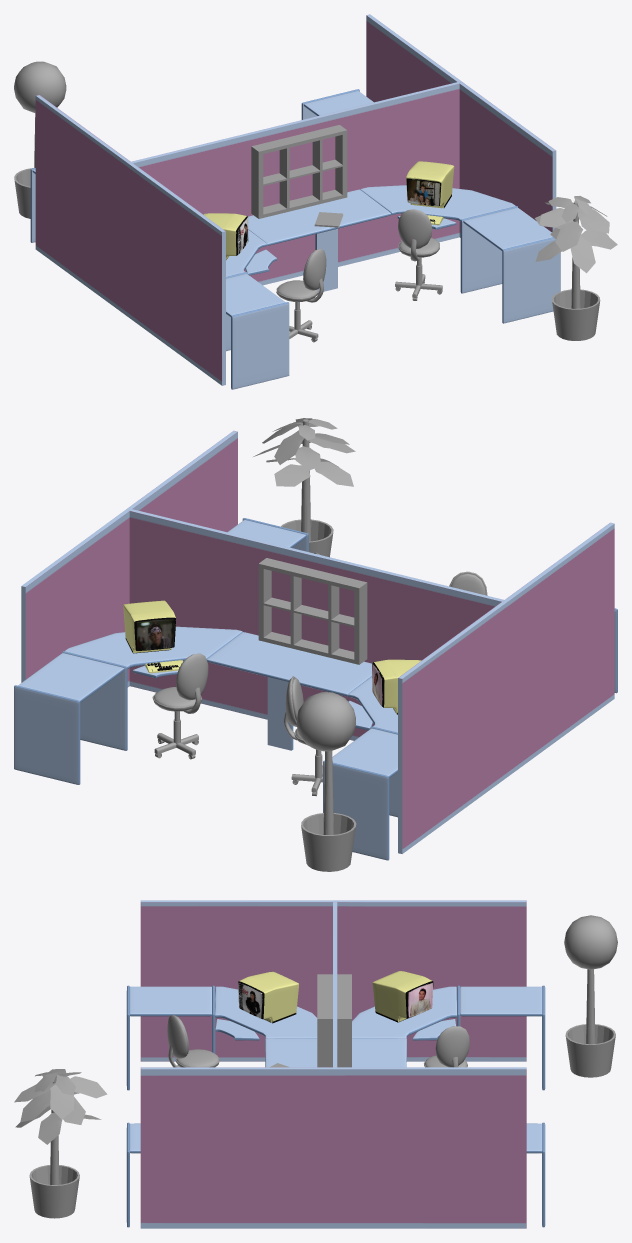
The model's file is officePre.fbx.
3 views of the same model, one above another, from view 1: azimuth 30°, elevation 25°; view 2: azimuth 150°, elevation 25°; view 3: azimuth 270°, elevation 25° (orthographic). The views are drawn at different scales.
Parts seen in each view (by area): view 1: pCube17, polySurface6, polySurface11, pCube39, polySurface28, pCube48, pCube49, pCube1, polySurface10, pCube34; view 2: pCube17, polySurface10, pCube52, polySurface28, polySurface11, pCube50, pCube35, polySurface6, pCube36, pCube51, pCube49; view 3: pCube17, polySurface10, polySurface6, polySurface11, polySurface28, pCube34, pCube36, pCube39, pCube49, pCube52, pCube51.
Boxes of the visible parts, bbox=[...] form: pCube17: bbox=[35, 14, 556, 385]; polySurface6: bbox=[226, 185, 560, 389]; polySurface11: bbox=[535, 196, 617, 340]; pCube39: bbox=[251, 125, 347, 218]; polySurface28: bbox=[14, 61, 66, 218]; pCube48: bbox=[395, 209, 442, 300]; pCube49: bbox=[276, 248, 326, 342]; pCube1: bbox=[406, 161, 454, 208]; polySurface10: bbox=[30, 89, 373, 242]; pCube34: bbox=[203, 213, 248, 259]; pCube17: bbox=[21, 430, 614, 853]; polySurface10: bbox=[14, 626, 397, 860]; pCube52: bbox=[258, 558, 367, 664]; polySurface28: bbox=[296, 692, 356, 871]; polySurface11: bbox=[253, 418, 355, 557]; pCube50: bbox=[152, 653, 208, 759]; pCube35: bbox=[123, 600, 175, 653]; polySurface6: bbox=[227, 518, 617, 693]; pCube36: bbox=[372, 659, 421, 714]; pCube51: bbox=[284, 676, 322, 796]; pCube49: bbox=[449, 571, 487, 595]; pCube17: bbox=[140, 900, 526, 1228]; polySurface10: bbox=[352, 985, 545, 1227]; polySurface6: bbox=[126, 985, 317, 1227]; polySurface11: bbox=[14, 1069, 107, 1218]; polySurface28: bbox=[564, 915, 617, 1077]; pCube34: bbox=[238, 971, 298, 1023]; pCube36: bbox=[372, 971, 433, 1022]; pCube39: bbox=[317, 974, 332, 1067]; pCube49: bbox=[167, 1014, 219, 1067]; pCube52: bbox=[337, 974, 351, 1067]; pCube51: bbox=[424, 1026, 469, 1067].
Bounding box in the file's own units: 16.6 × 6.98 × 23.91.
